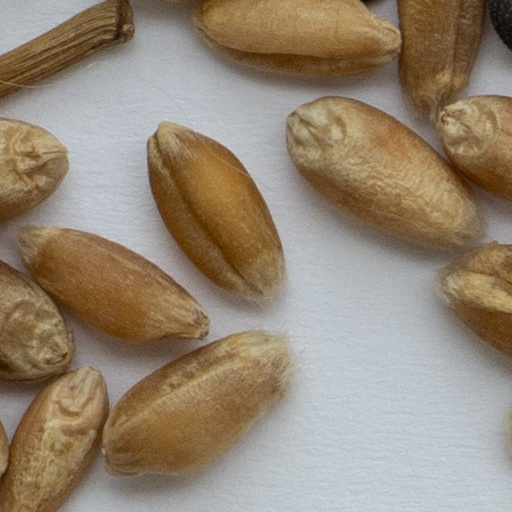Peel-poly: (0, 0, 134, 96)
